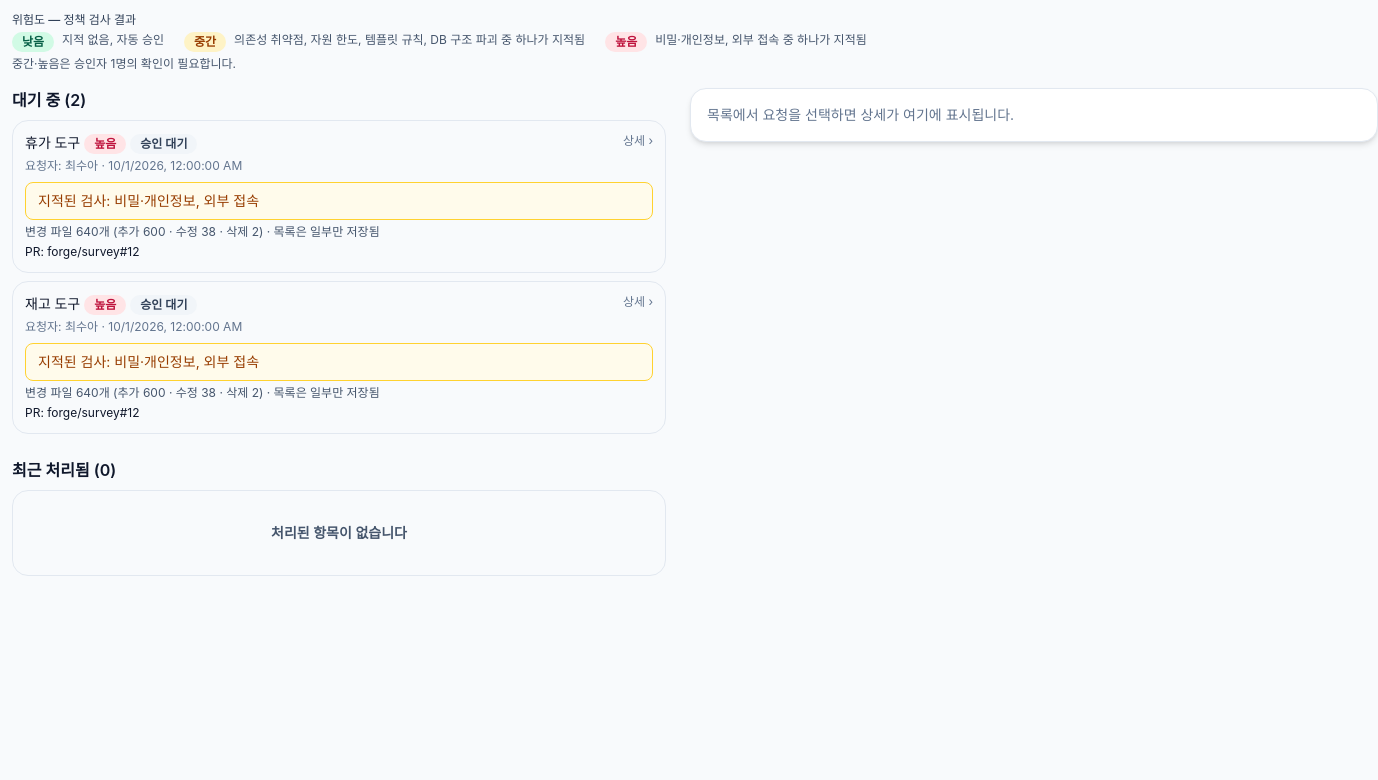
Test case: every section is its own card (jsdom cannot see appearance, so structure and heading level only) › gives 변경 one card, whose paths stay inside it
Click the list item with aria-label "휴가 도구 요청 상세 보기" at (339, 196), box [12,120,666,273]
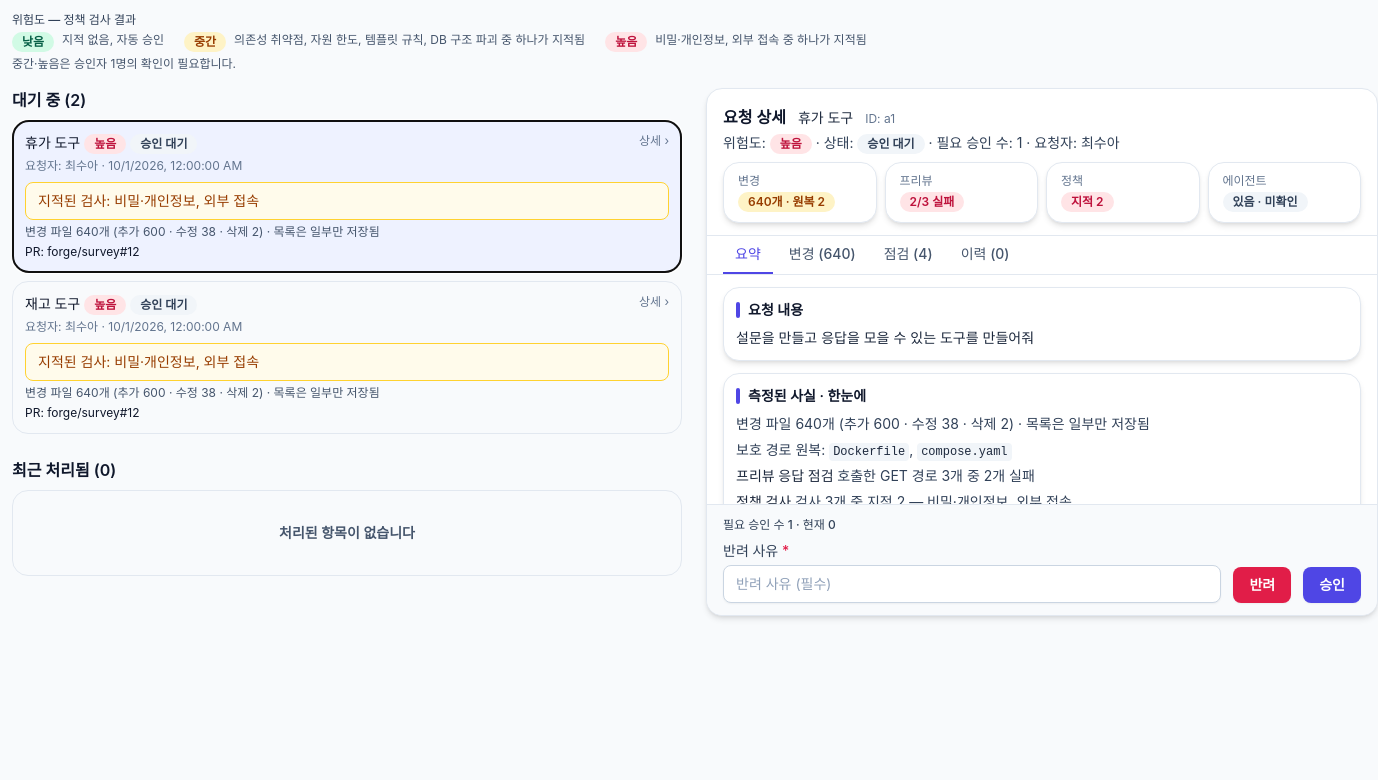
Click the tab "변경 (640)" at (822, 255), box [777,236,868,274]
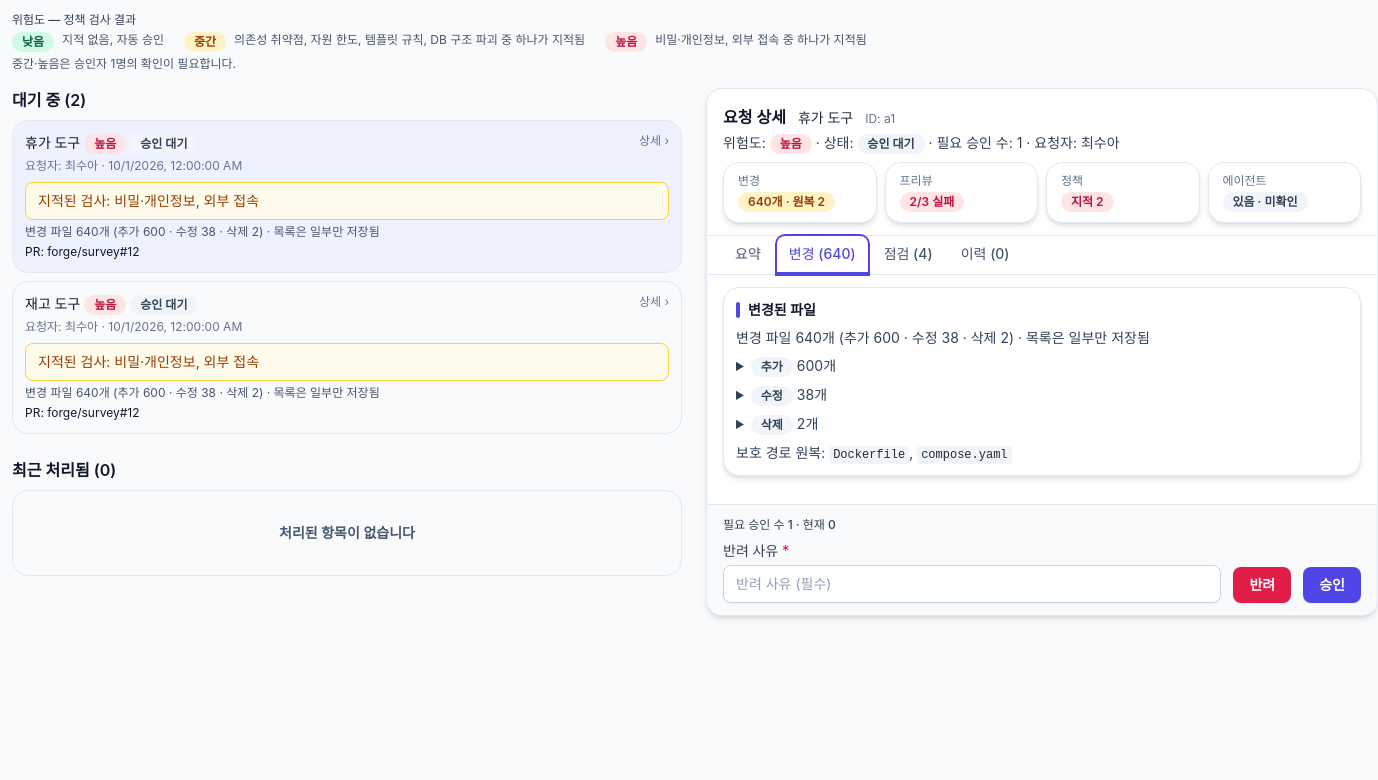
Result: the headings read "변경된 파일", in this order at [736,301,816,318]
